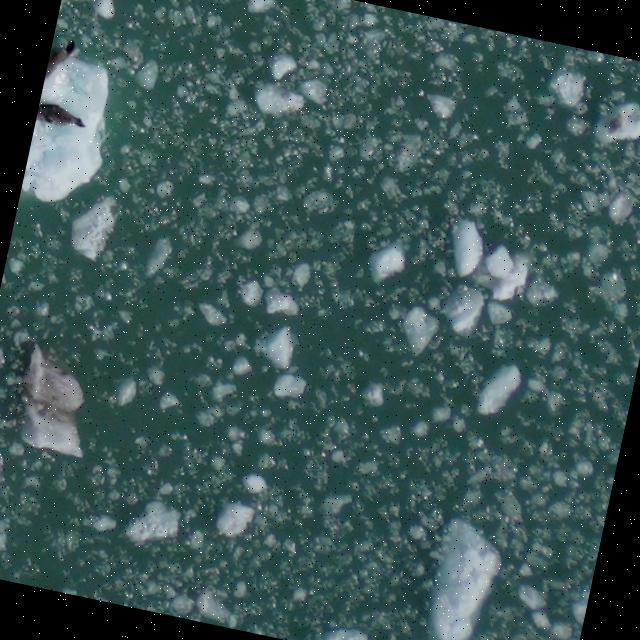seal: (44, 33, 82, 89), (35, 100, 92, 135)
